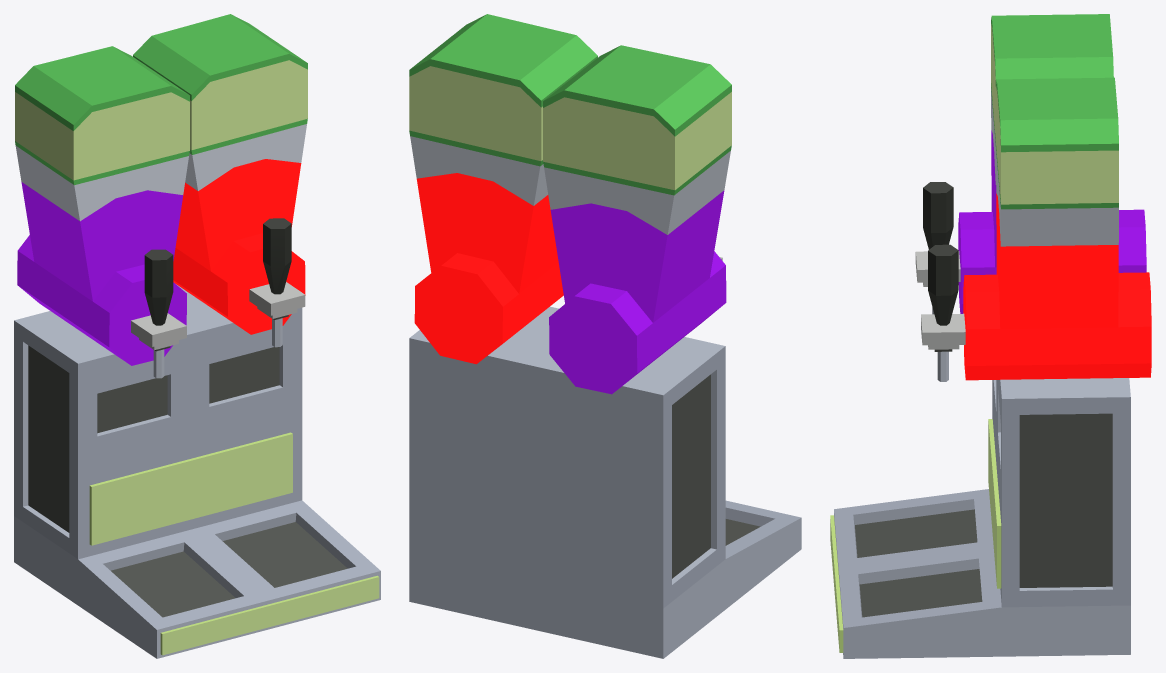
Rendered from Slushie_Machine.glb.
3 views of the same model, side by side, from view 1: azimuth 30°, elevation 25°; view 2: azimuth 150°, elevation 25°; view 3: azimuth 270°, elevation 25° (orthographic). The views are drawn at different scales.
Parts seen in each view (by area): view 1: Slushie_Machine; view 2: Slushie_Machine; view 3: Slushie_Machine.
Boxes of the visible parts, x1=… form: Slushie_Machine: x1=14, y1=14, x2=380, y2=658; Slushie_Machine: x1=409, y1=14, x2=801, y2=658; Slushie_Machine: x1=830, y1=14, x2=1151, y2=658.
Size of what is drawn, in the model's own units: 0.613 by 1.2 by 0.661.
Materials: 1 (1 with a texture image).
